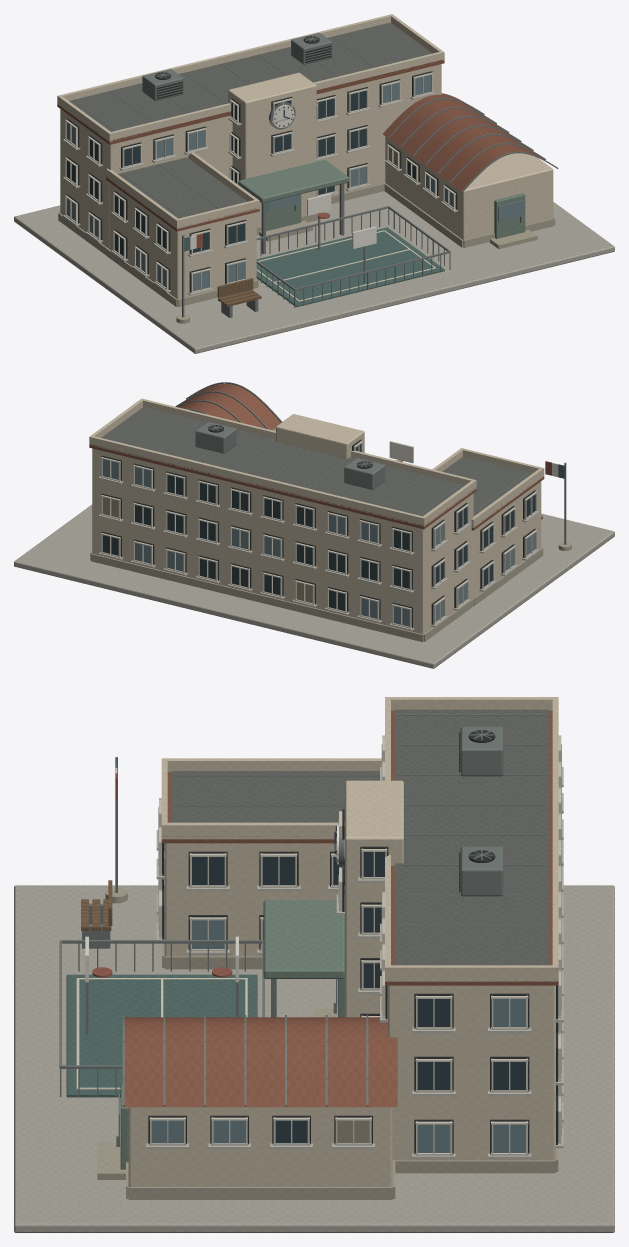
File: EDU_SCHOOL_4x3_002.glb
The picture shows the model from 3 angles, top to bottom: view 1: azimuth 30°, elevation 25°; view 2: azimuth 150°, elevation 25°; view 3: azimuth 270°, elevation 25°; orthographic projection. The views are drawn at different scales.
Parts seen in each view (by area): view 1: EDU_SCHOOL_4x3_002_Visual; view 2: EDU_SCHOOL_4x3_002_Visual; view 3: EDU_SCHOOL_4x3_002_Visual.
Boxes of the visible parts, x1,y1,x2,y2 form: EDU_SCHOOL_4x3_002_Visual: [14, 14, 614, 353]; EDU_SCHOOL_4x3_002_Visual: [14, 382, 614, 668]; EDU_SCHOOL_4x3_002_Visual: [14, 697, 614, 1232].
Size of what is drawn, in the model's own units: 7.92 by 2.69 by 5.92.
19 materials, 12 textured.
